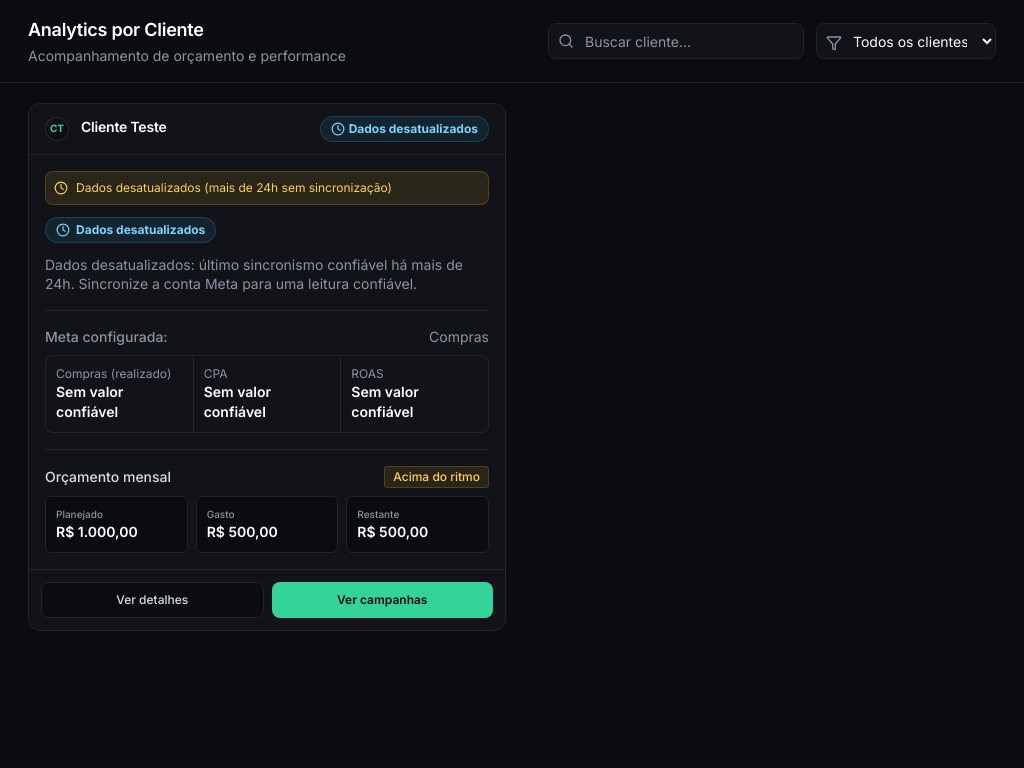
Test: ClientAnalyticsBoard › "Ver detalhes" opens the analytics detail drawer, not the campaign drawer
The width and height of the screenshot is (1024, 768).
Click the button "Ver detalhes" at (152, 600), box [41, 582, 264, 618]
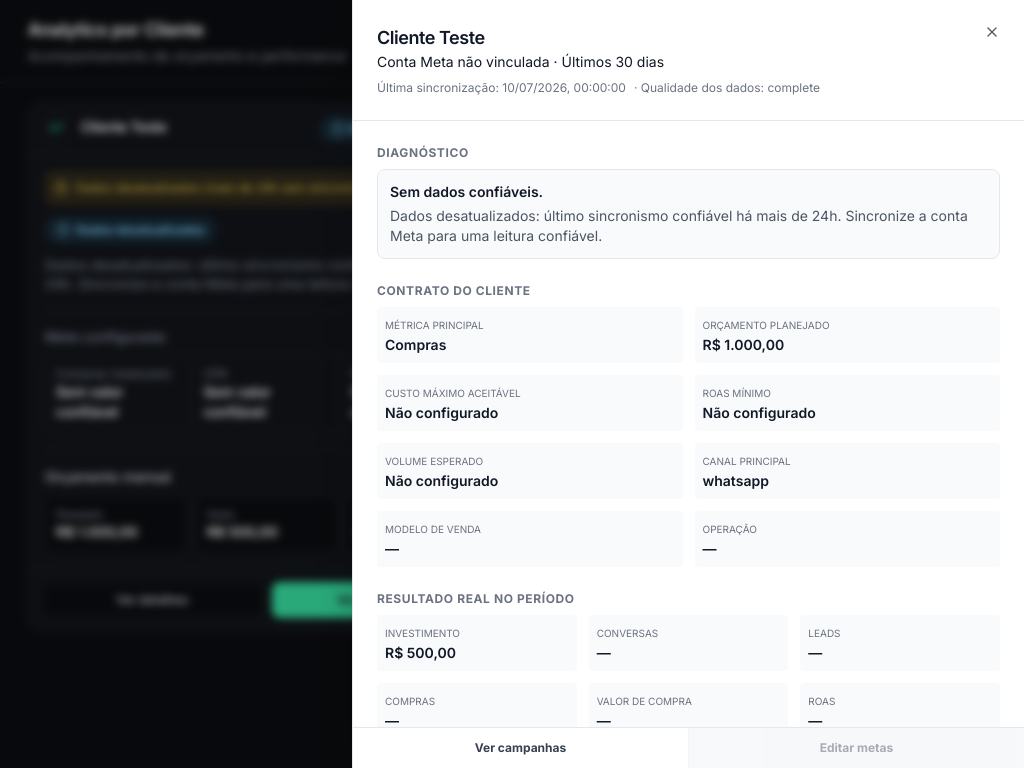
Expected: the heading "Contrato do cliente" is shown, [377, 283, 531, 298]
